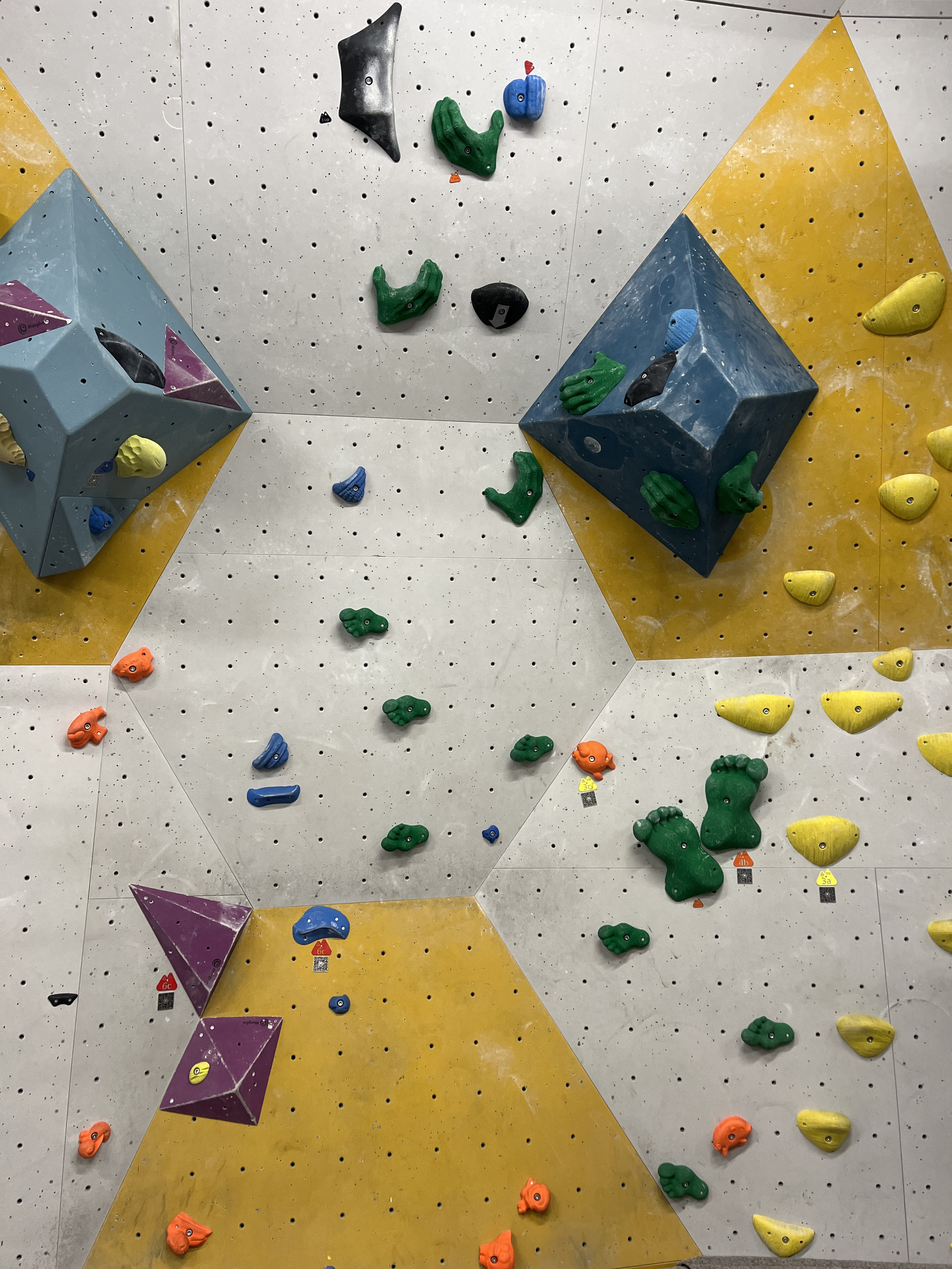hold: (128, 885, 249, 1012), (159, 1017, 280, 1124), (338, 5, 400, 161), (633, 807, 723, 901), (163, 325, 240, 410), (701, 754, 767, 850), (432, 99, 503, 176), (863, 272, 946, 335), (0, 280, 70, 346), (372, 261, 442, 325), (485, 452, 544, 525), (96, 325, 163, 388), (559, 354, 627, 415), (821, 690, 903, 734), (787, 816, 859, 866), (641, 471, 700, 529), (715, 694, 794, 734), (717, 451, 763, 514), (624, 352, 676, 405), (880, 474, 939, 520), (752, 1214, 814, 1257), (472, 283, 529, 329), (797, 1109, 850, 1152), (838, 1016, 894, 1056), (114, 435, 164, 477), (292, 907, 348, 944), (504, 75, 546, 120), (741, 1016, 794, 1051), (659, 1164, 710, 1200), (165, 1214, 209, 1254), (572, 741, 615, 781), (785, 572, 835, 606), (68, 707, 107, 748), (917, 732, 952, 776), (600, 924, 651, 954), (113, 646, 153, 682), (663, 309, 697, 351), (340, 608, 388, 637), (0, 413, 26, 466), (716, 1117, 753, 1154), (251, 734, 288, 771), (381, 824, 429, 851), (383, 697, 430, 724), (479, 1232, 514, 1268), (874, 648, 912, 681), (332, 467, 365, 504), (77, 1121, 110, 1158), (926, 426, 952, 470), (513, 735, 554, 762), (245, 786, 299, 806), (519, 1181, 551, 1213), (928, 920, 952, 952), (88, 505, 113, 535), (49, 993, 77, 1006), (189, 1063, 207, 1083), (328, 997, 348, 1013), (482, 825, 499, 842)
volume: (516, 212, 820, 581), (0, 164, 257, 579), (39, 498, 140, 578)
